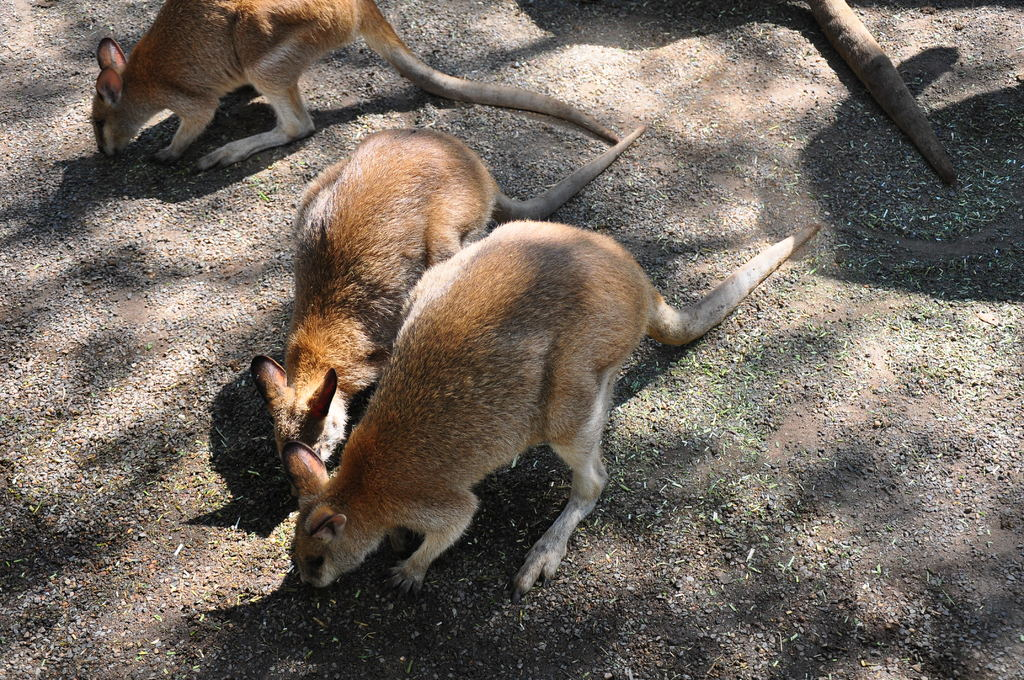kangaroo: (280, 222, 816, 593)
